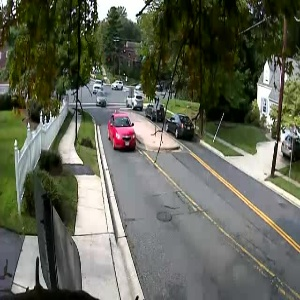car: (105, 106, 137, 154), (163, 112, 200, 138), (278, 133, 300, 162), (143, 101, 167, 122), (93, 90, 111, 108)
suv: (124, 92, 144, 110), (107, 76, 128, 92)
truck: (90, 77, 104, 93)
